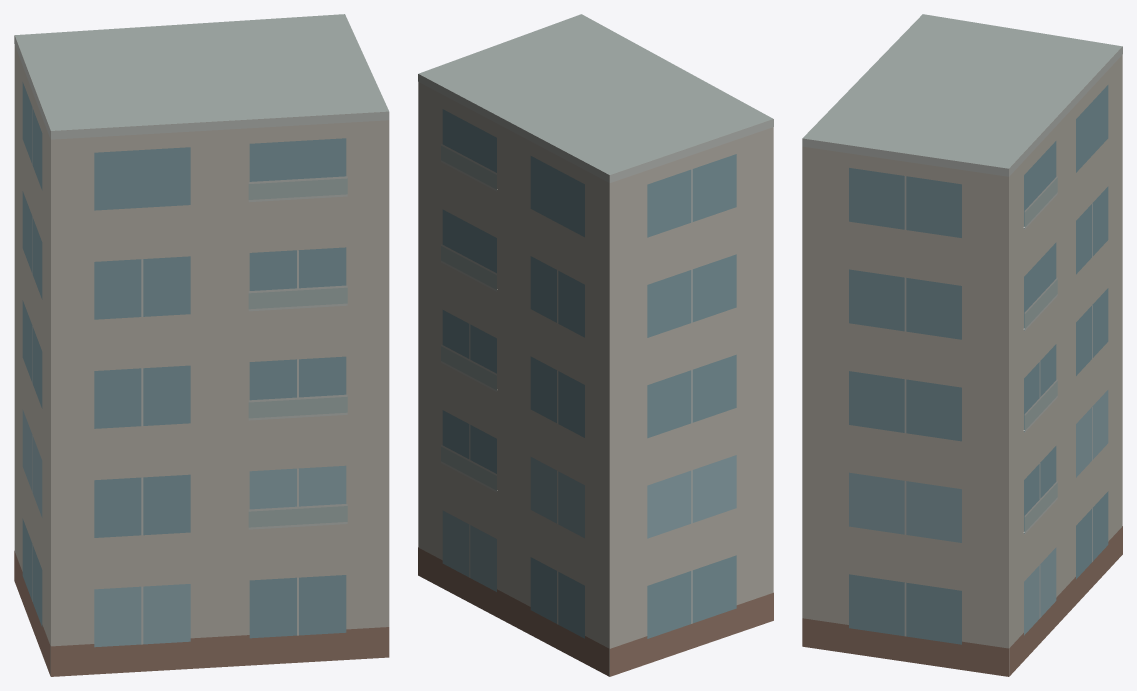
File: survey-upis-32558505.glb
3 views of the same model, side by side, from view 1: azimuth 30°, elevation 25°; view 2: azimuth 150°, elevation 25°; view 3: azimuth 270°, elevation 25° (orthographic). The views are drawn at different scales.
Visible parts, largest first — view 1: survey-upis-32558505.tmp; view 2: survey-upis-32558505.tmp; view 3: survey-upis-32558505.tmp.
Boxes of the visible parts, bbox=[...] form: survey-upis-32558505.tmp: bbox=[14, 14, 389, 676]; survey-upis-32558505.tmp: bbox=[418, 14, 773, 676]; survey-upis-32558505.tmp: bbox=[802, 14, 1122, 676].
Bounding box in the file's own units: 9.97 × 15.25 × 8.72.
